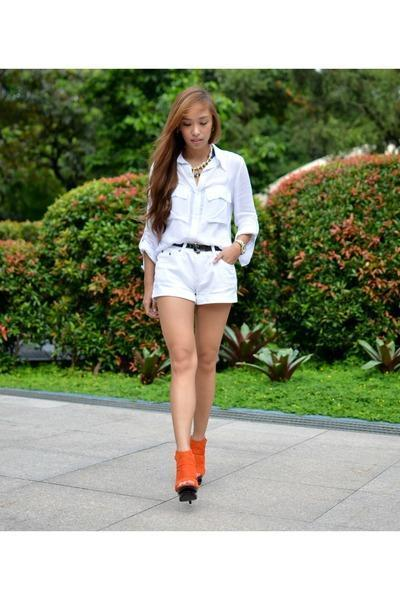dress: (139, 144, 258, 303)
shoe: (175, 436, 206, 488)
